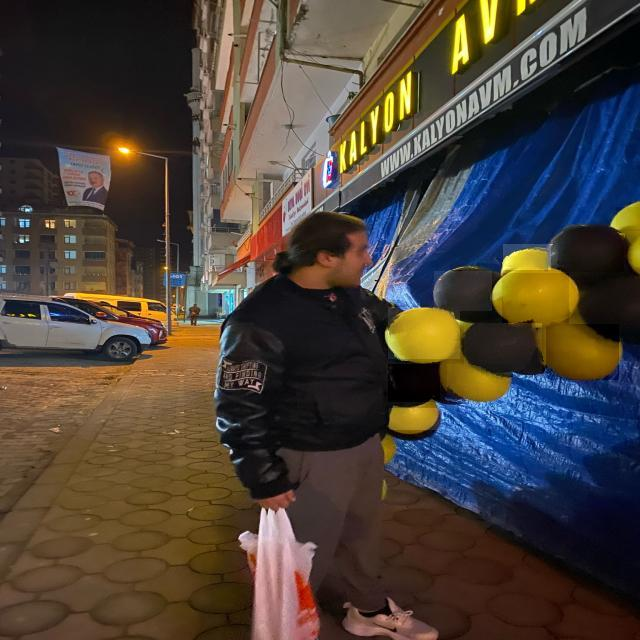balloon: (546, 324, 619, 380), (464, 323, 542, 375), (388, 307, 461, 359), (502, 273, 569, 327), (558, 226, 624, 272), (447, 364, 511, 410), (434, 271, 492, 311), (388, 364, 440, 402), (503, 244, 551, 270), (389, 408, 444, 430), (616, 207, 640, 231)
